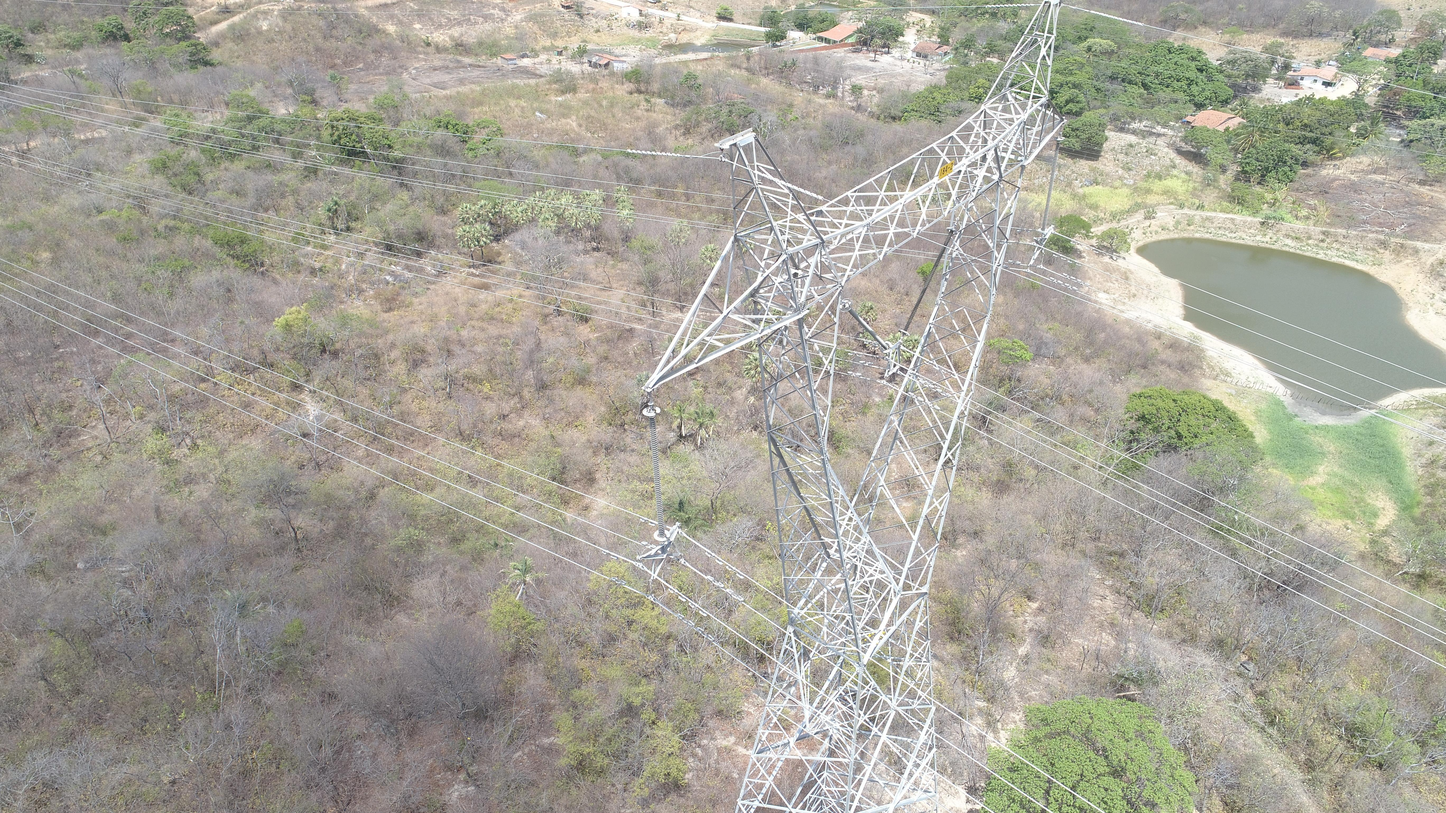power_tower: (644, 2, 1066, 812)
